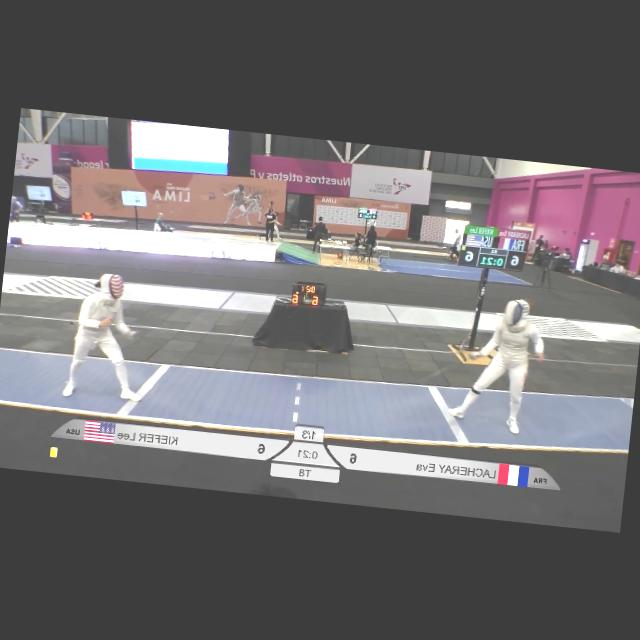blade: (412, 344, 479, 397)
